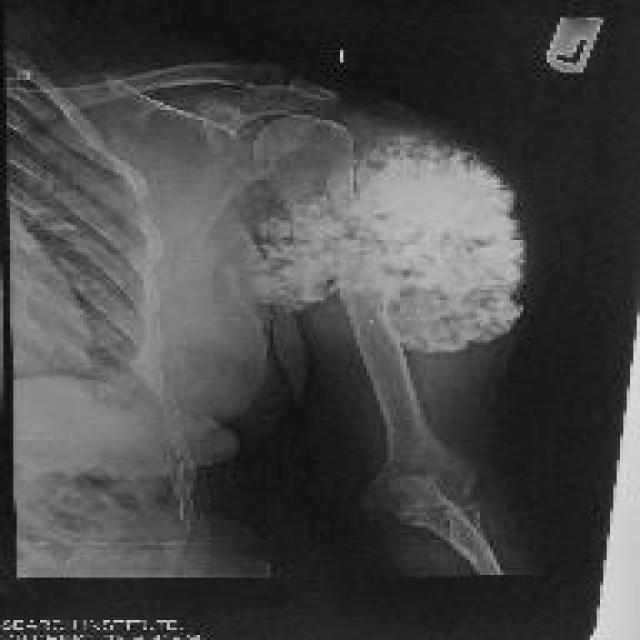bone-cancer: (257, 138, 527, 352)
